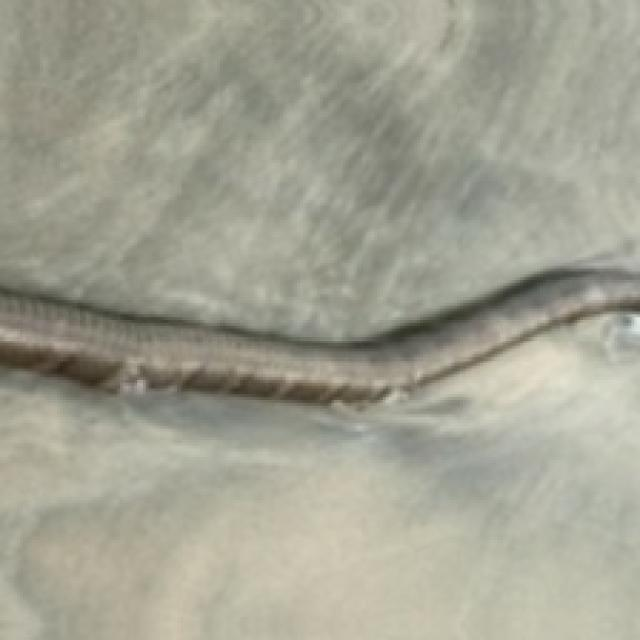king cobra: (0, 271, 637, 400)
